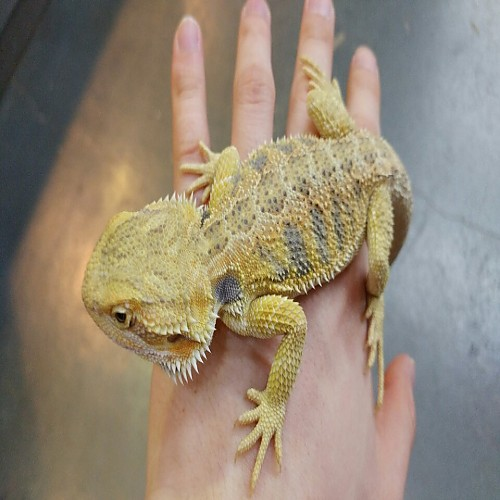bearded: (80, 56, 413, 488)
